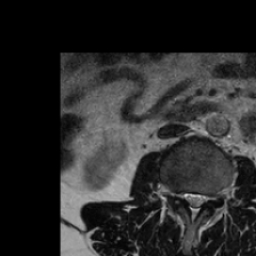CCS_normal: (190, 186, 198, 227)
LFS_severe_stenosis: (208, 186, 215, 211)
LLS_stenosis: (198, 188, 206, 212)
RFS_severe_stenosis: (173, 184, 182, 206)
RLS_stenosis: (183, 186, 190, 209)
